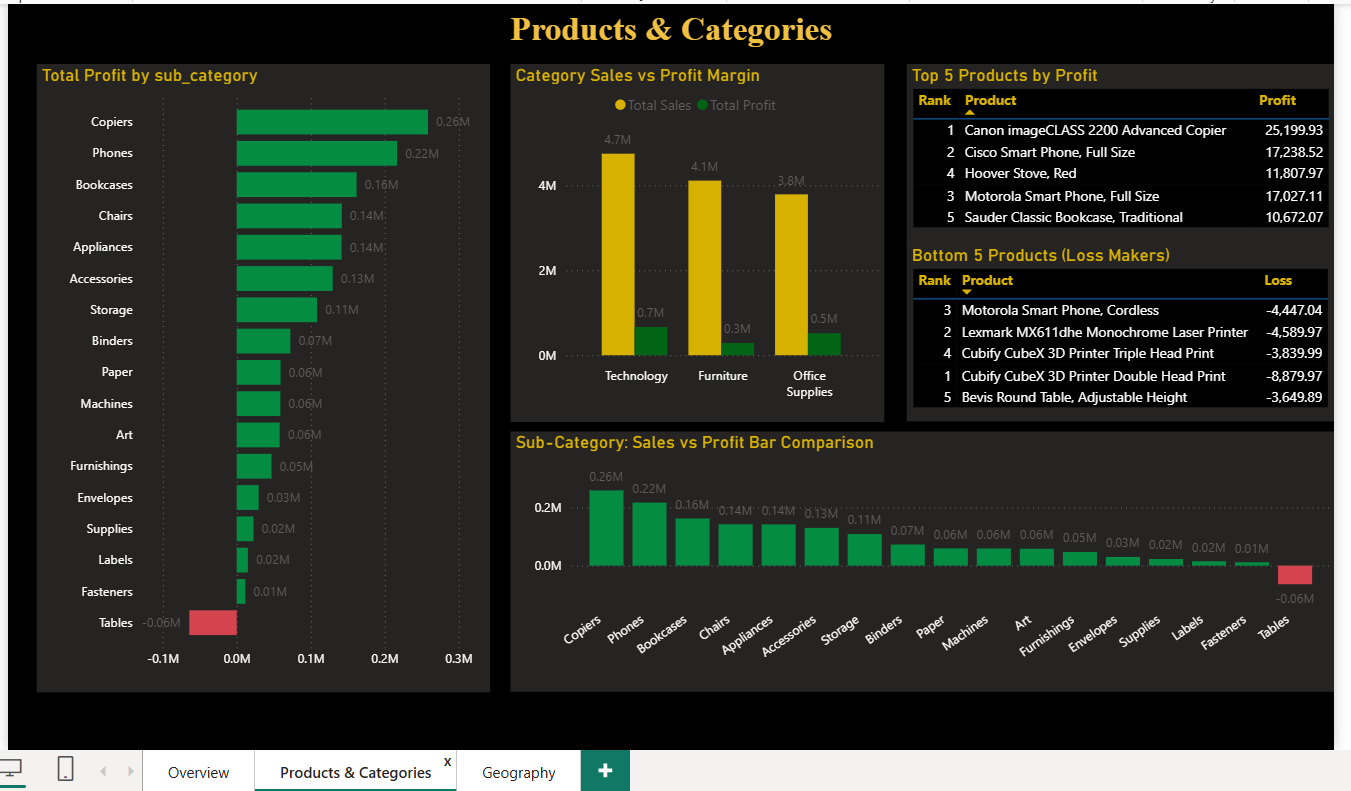

Layout of this report page (visuals, bound fields, positions):
{"tool":"powerbi","page":{"name":"Products & Categories","canvas":[1280,720],"ordinal":1},"visuals":[{"type":"textbox","box":[0,0,1280.3,54.9],"z":0},{"type":"clusteredColumnChart","title":"Category Sales vs Profit Margin","fields":{"Category":["cleaned_superstore.category"],"Y":["cleaned_superstore.Total Sales","cleaned_superstore.Total Profit"]},"box":[484.4,57.6,360.9,345.8],"z":1000},{"type":"clusteredBarChart","fields":{"Category":["cleaned_superstore.sub_category"],"Y":["cleaned_superstore.Total Profit"]},"box":[27.4,57.6,437.7,606.5],"z":2000},{"type":"tableEx","title":"Top 5 Products by Profit","fields":{"Values":["cleaned_superstore.Product Rank","cleaned_superstore.product_name","cleaned_superstore.Total Profit"]},"box":[867.2,57.6,413,174.3],"z":3000},{"type":"tableEx","title":"Bottom 5 Products (Loss Makers)","fields":{"Values":["cleaned_superstore.Loss Rank","cleaned_superstore.product_name","cleaned_superstore.Total Profit"]},"box":[867.2,231.9,413,171.5],"z":4000},{"type":"clusteredColumnChart","title":"Sub-Category: Sales vs Profit Bar Comparison","fields":{"Category":["cleaned_superstore.sub_category"],"Y":["Sum(cleaned_superstore.profit)"]},"box":[484.4,413,795.9,251.1],"z":5000}]}

Visuals, with their boxes on the page's 1280x720 design canvas (x1, y1, x2, y2). These are canvas units, not pixel positions in the 1351x791 screenshot, which may show the page scaled, cropped or inside an application window:
textbox: (0,0,1280,55)
"Category Sales vs Profit Margin" clusteredColumnChart: (484,58,845,403)
clusteredBarChart - cleaned_superstore.sub_category x cleaned_superstore.Total Profit: (27,58,465,664)
"Top 5 Products by Profit" tableEx: (867,58,1280,232)
"Bottom 5 Products (Loss Makers)" tableEx: (867,232,1280,403)
"Sub-Category: Sales vs Profit Bar Comparison" clusteredColumnChart: (484,413,1280,664)
